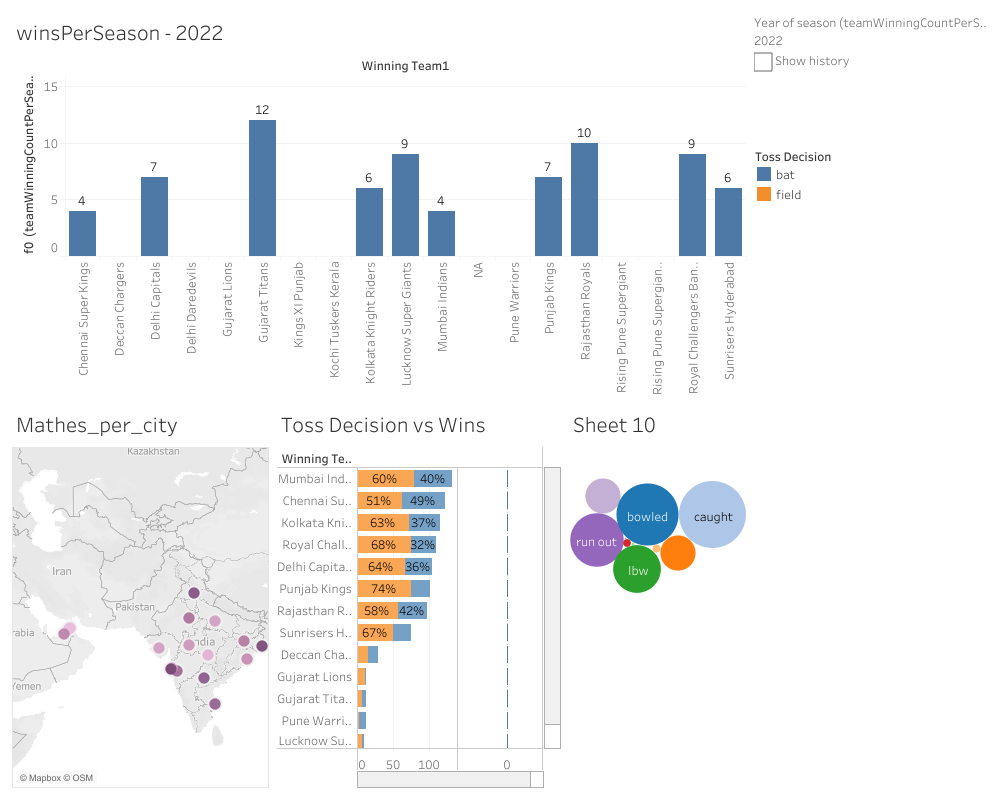

This screenshot's page, from the dashboard's own definition file:
{"tool":"tableau","page":{"name":"Dashboard 1","canvas":[1000,800],"ordinal":0},"visuals":[{"type":"worksheet","title":"winsPerSeason","mark":"Bar","rows":["f0_ (teamWinningCountPerSeason.csv)"],"cols":["winningTeam"],"box":[8,8,742,392]},{"type":"currpage","title":"winsPerSeason","box":[750,8,242,133]},{"type":"legend","title":"Toss Decision vs Wins","param":"[federated.0iwct6o0bek8id1ctcxse0mndaj9].[none:TossDecision:nk]","box":[750,141,242,67]},{"type":"worksheet","title":"Mathes_per_city","mark":"Automatic","box":[8,400,265,392]},{"type":"worksheet","title":"Toss Decision vs Wins","mark":"Automatic","rows":["WinningTeam"],"cols":["ID","Calculation_4657918319545511957"],"box":[273,400,291.5,392]},{"type":"worksheet","title":"Sheet 10","mark":"Circle","box":[564.5,400,185.5,392]}]}

Visuals, with their boxes in screenshot pixels (x1, y1, x2, y2), scaled from the page's 1000x800 canvas onto the 999x799 screenshot:
"winsPerSeason" worksheet (Bar marks): bbox=[8, 8, 749, 400]
"winsPerSeason" currpage: bbox=[749, 8, 991, 141]
"Toss Decision vs Wins" legend: bbox=[749, 141, 991, 208]
"Mathes_per_city" worksheet: bbox=[8, 400, 273, 791]
"Toss Decision vs Wins" worksheet: bbox=[273, 400, 564, 791]
"Sheet 10" worksheet (Circle marks): bbox=[564, 400, 749, 791]
